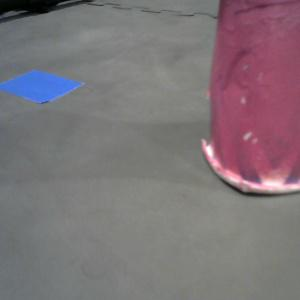Right: (202, 1, 300, 194)
